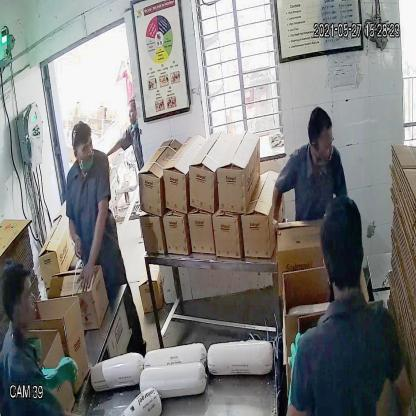no_goggles: (72, 139, 94, 158)
